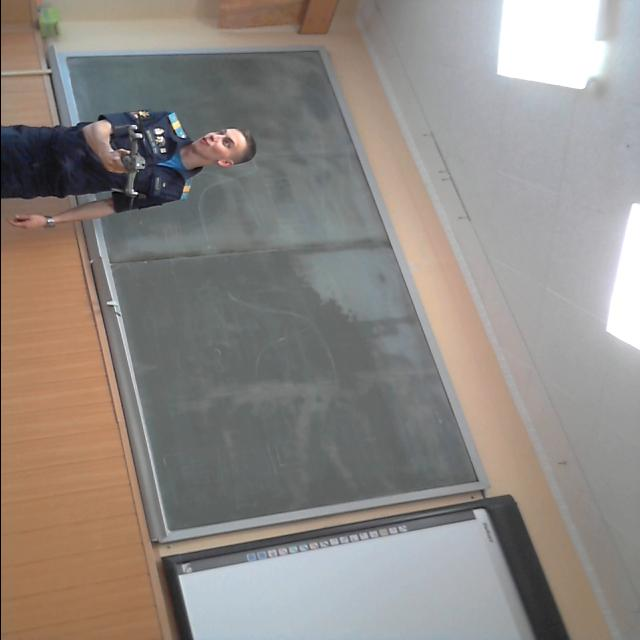drone: (109, 107, 165, 209)
